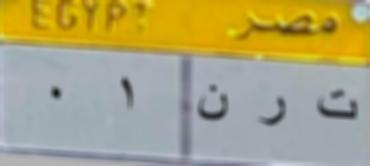0: (44, 78, 72, 113)
1: (112, 68, 144, 120)
noon: (193, 80, 232, 134)
raa: (255, 88, 291, 136)
taa: (308, 82, 364, 132)
